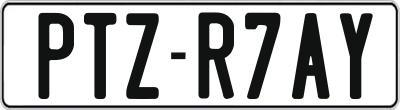7: (245, 11, 281, 102)
A: (289, 13, 329, 105)
P: (37, 12, 76, 100)
R: (196, 10, 237, 97)
T: (83, 10, 120, 96)
Y: (339, 10, 373, 97)
Z: (124, 10, 162, 102)
